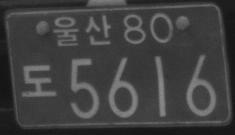0: (149, 12, 173, 44)
1: (145, 55, 176, 116)
5: (67, 57, 100, 119)
6: (106, 56, 140, 118), (184, 54, 217, 116)
8: (122, 13, 145, 44)
도: (21, 64, 56, 97)
울산_O: (54, 14, 112, 46)
